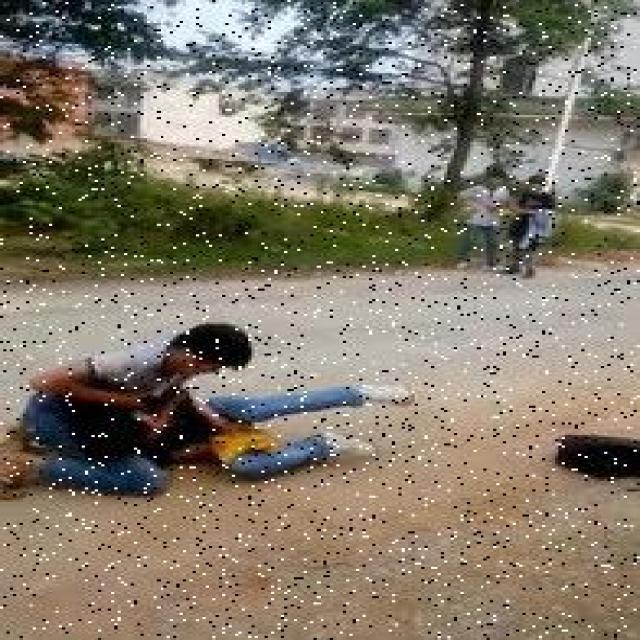fall: (49, 380, 418, 474)
